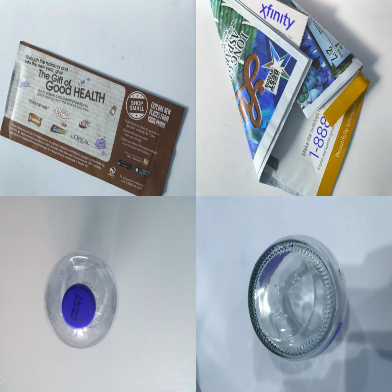glass: (248, 234, 349, 359)
paper: (209, 1, 370, 196), (1, 40, 186, 197)
plastic: (42, 250, 118, 348)
